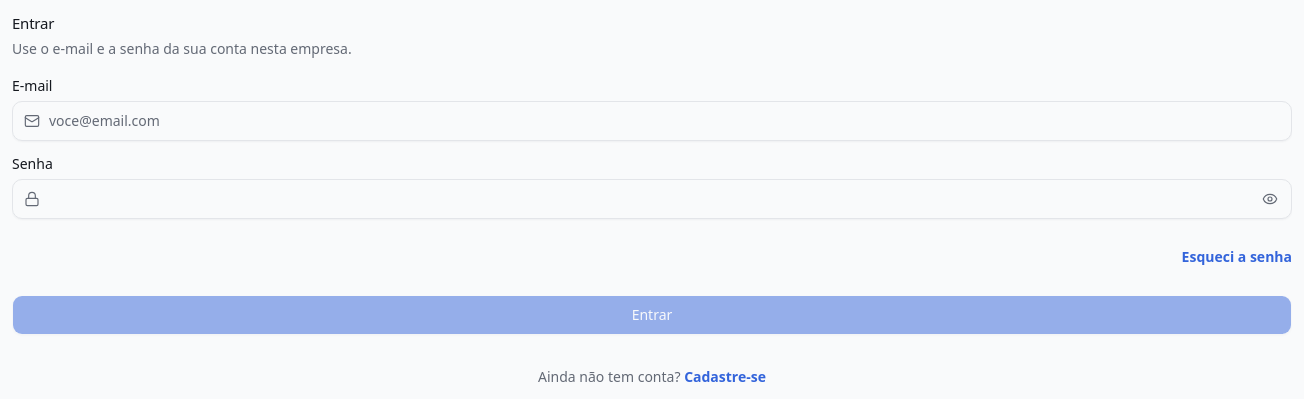
Test case: TenantPortalLoginPage › keeps Entrar disabled until email and password pass the schema
expect the button "Entrar" is disabled: met, box [12,294,1292,334]
Step 1. Type "not-an-email" into the field labelled "E-mail" → (652, 120), box [12,100,1292,140]
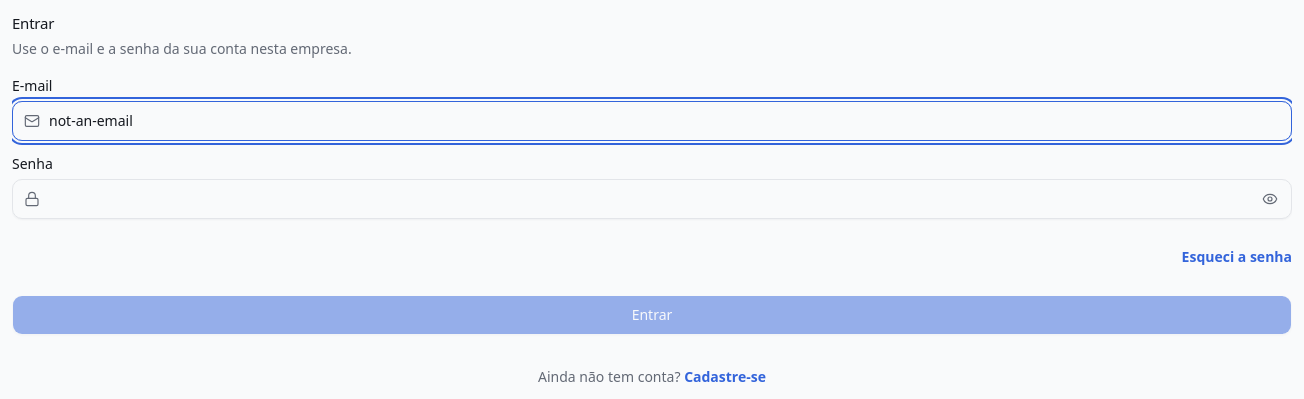
Step 2. Type "password1" into the password field labelled "Senha" → (652, 198), box [12,178,1292,218]
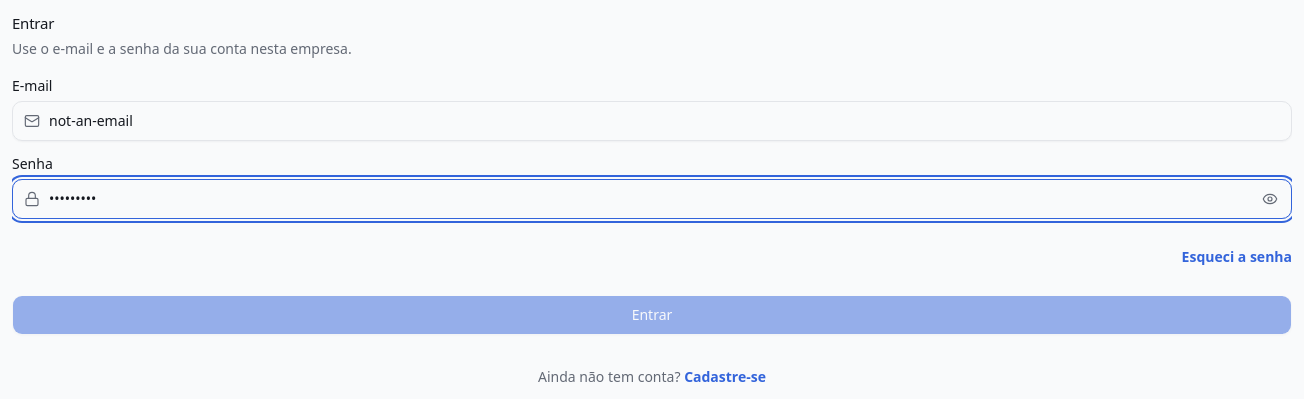
expect the button "Entrar" is disabled: met, box [12,294,1292,334]
Step 3. Replace the text in the field labelled "E-mail" with "ana@club.test" → (652, 120), box [12,100,1292,140]
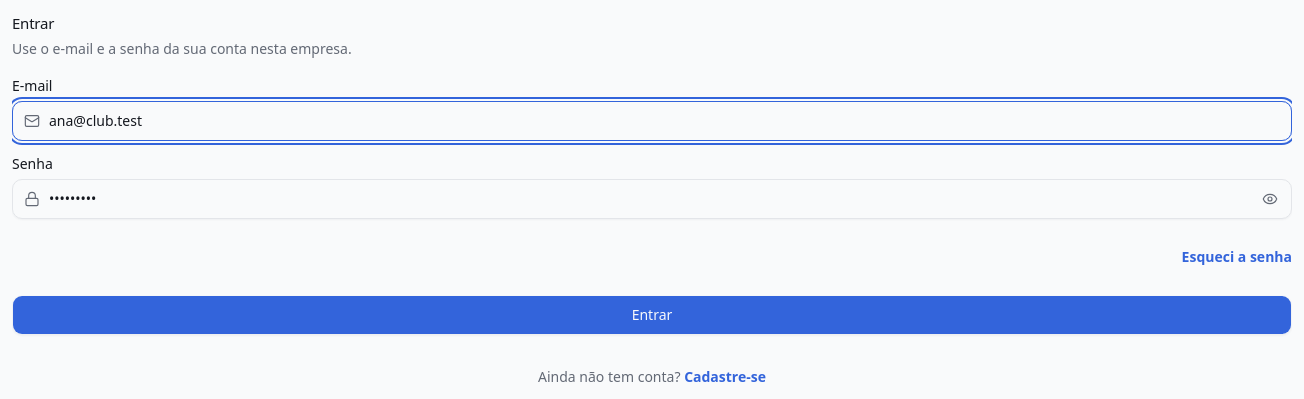
Step 4. Clear the password field labelled "Senha" → (652, 198), box [12,178,1292,218]
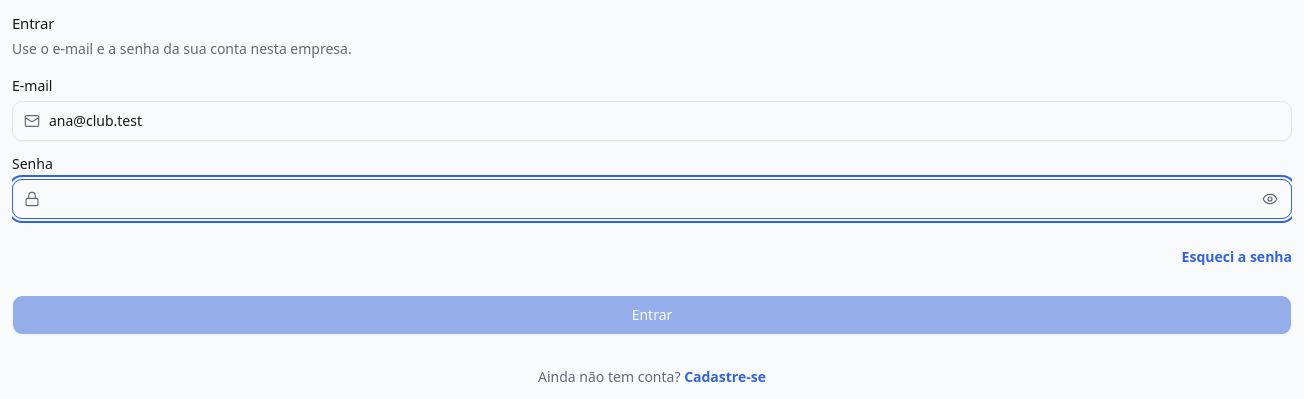
expect the button "Entrar" is disabled: met, box [12,294,1292,334]
Step 5. Type "password1" into the password field labelled "Senha" → (652, 198), box [12,178,1292,218]
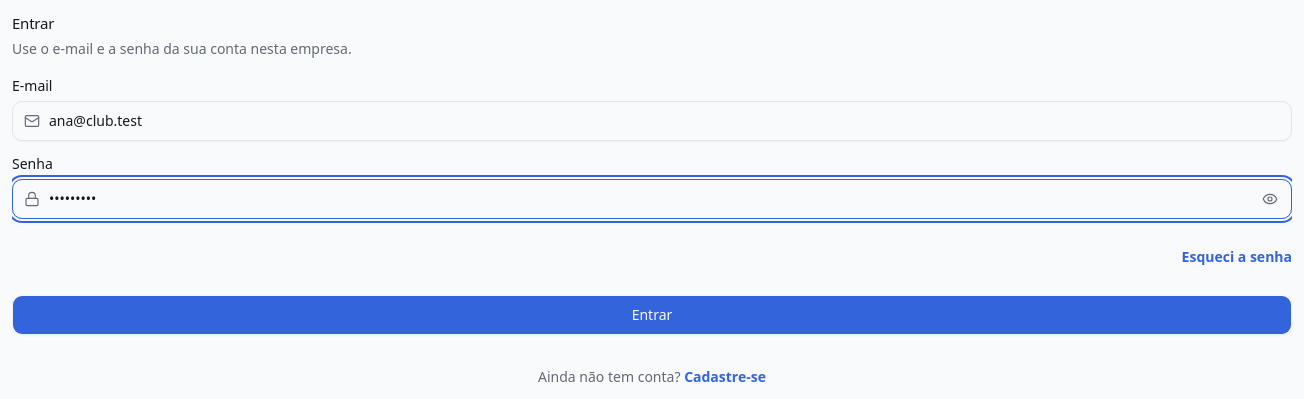
expect the button "Entrar" is enabled: met, box [12,294,1292,334]
